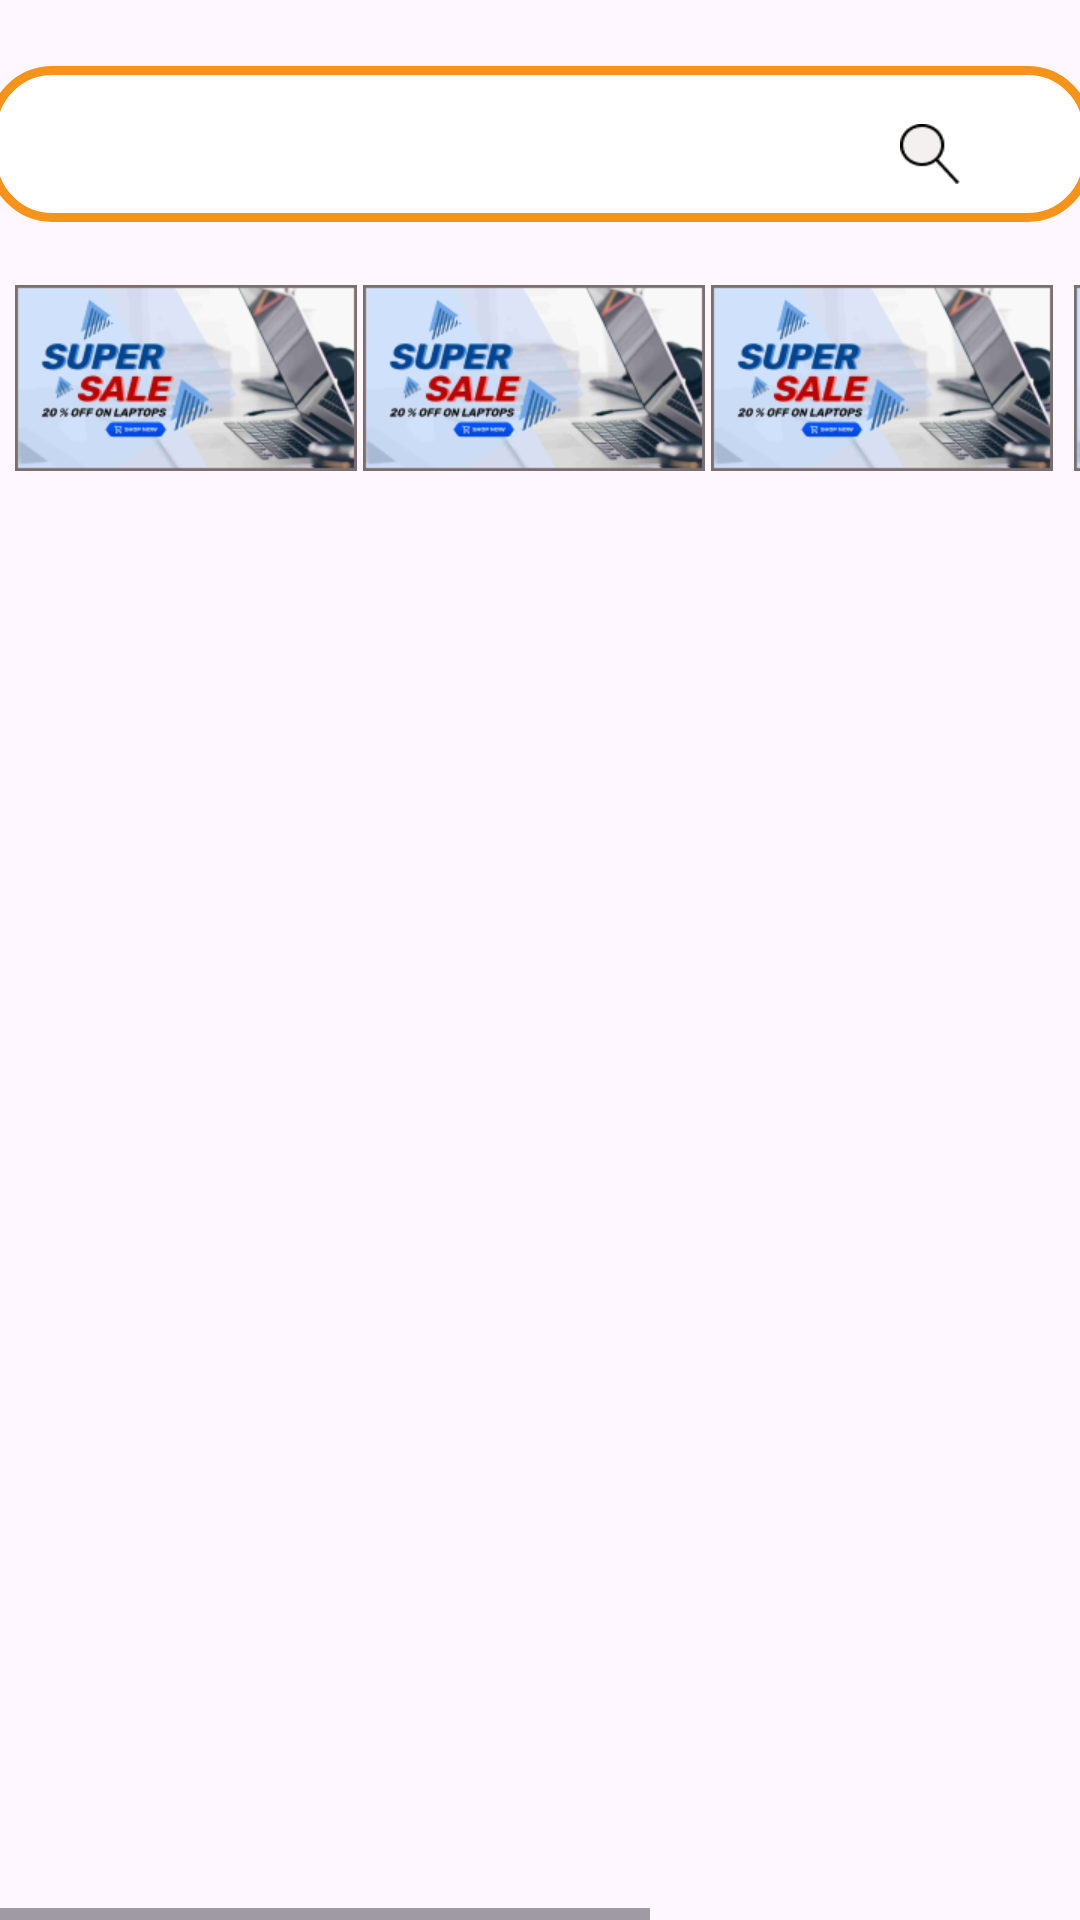

Point at icon controls on the screen. Image size 1080 × 1920, points as (x=x, y=y).
searchbtn: (x=930, y=154)
